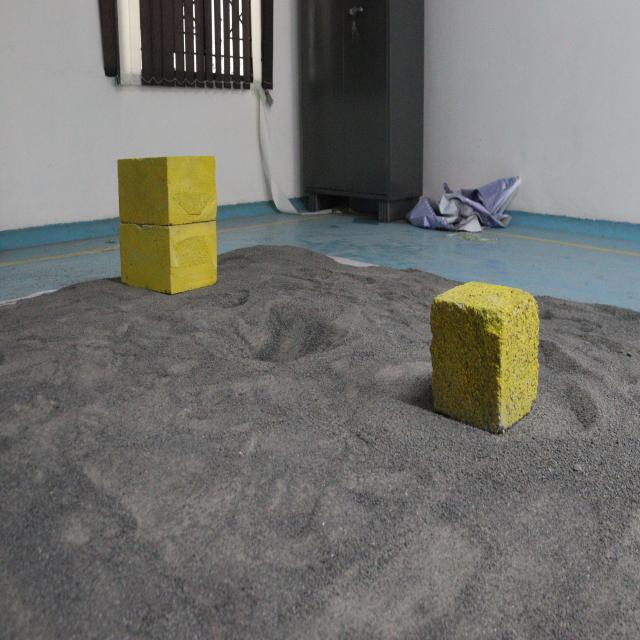box: (424, 274, 530, 435), (116, 144, 224, 300)
crater: (200, 293, 354, 380)
